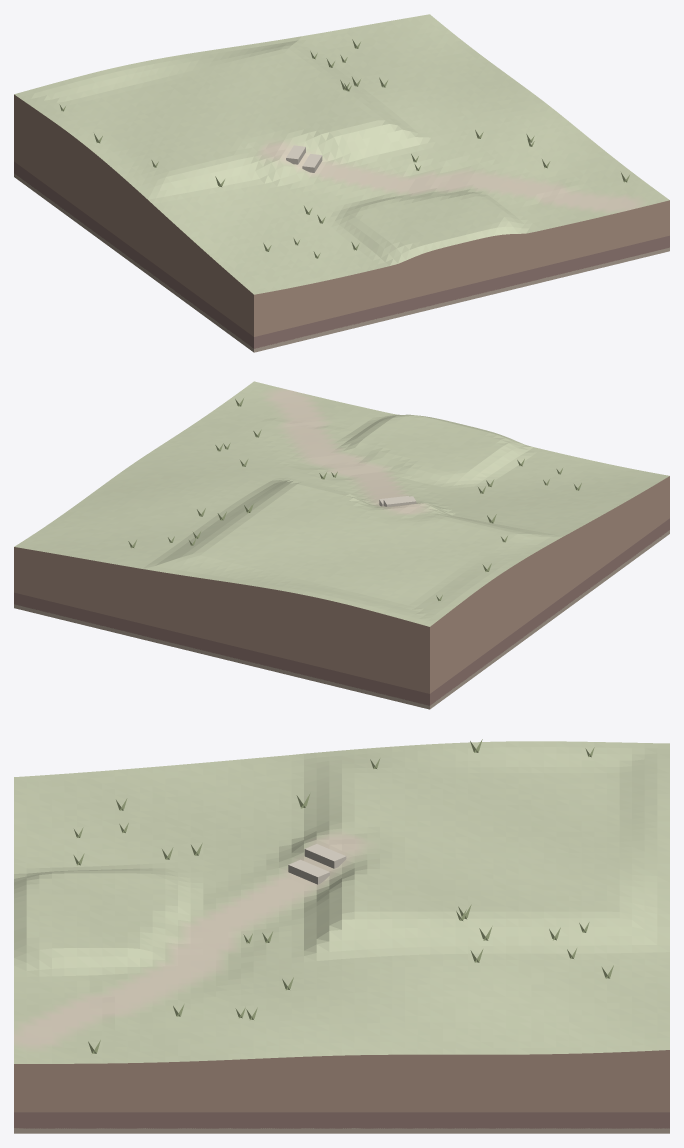
The picture shows the model from 3 angles, top to bottom: view 1: azimuth 30°, elevation 25°; view 2: azimuth 150°, elevation 25°; view 3: azimuth 270°, elevation 25°; orthographic projection. The views are drawn at different scales.
Parts seen in each view (by area): view 1: proc_ground, proc_skirt, proc_grass, proc_steps; view 2: proc_ground, proc_skirt, proc_grass; view 3: proc_ground, proc_skirt, proc_grass, proc_steps.
Part boxes in pixels (box(x1,y1,x2,y2)): proc_ground: box(14, 14, 669, 294); proc_skirt: box(14, 94, 669, 352); proc_grass: box(59, 39, 629, 258); proc_steps: box(286, 145, 322, 172); proc_ground: box(14, 381, 669, 626); proc_skirt: box(14, 476, 669, 709); proc_grass: box(128, 398, 581, 600); proc_ground: box(14, 741, 669, 1063); proc_skirt: box(14, 1050, 669, 1133); proc_grass: box(73, 739, 613, 1053); proc_steps: box(288, 844, 346, 884).
Size of the model in its own units: 8 by 1.69 by 8.
